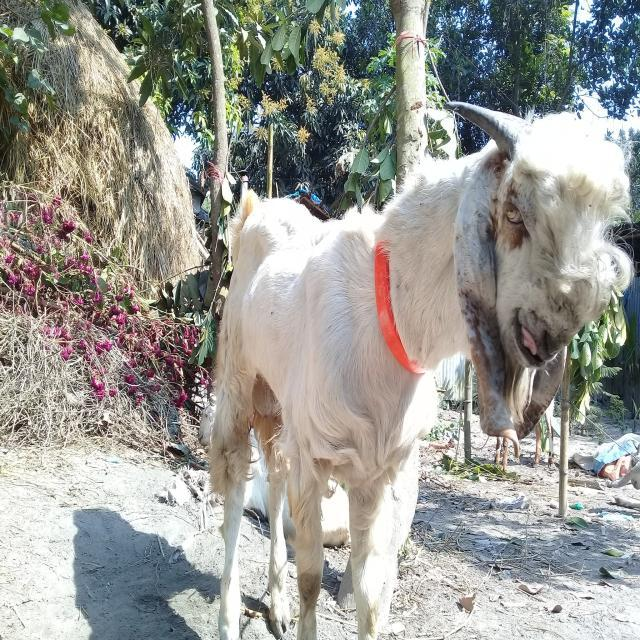Goat: (207, 99, 634, 639)
